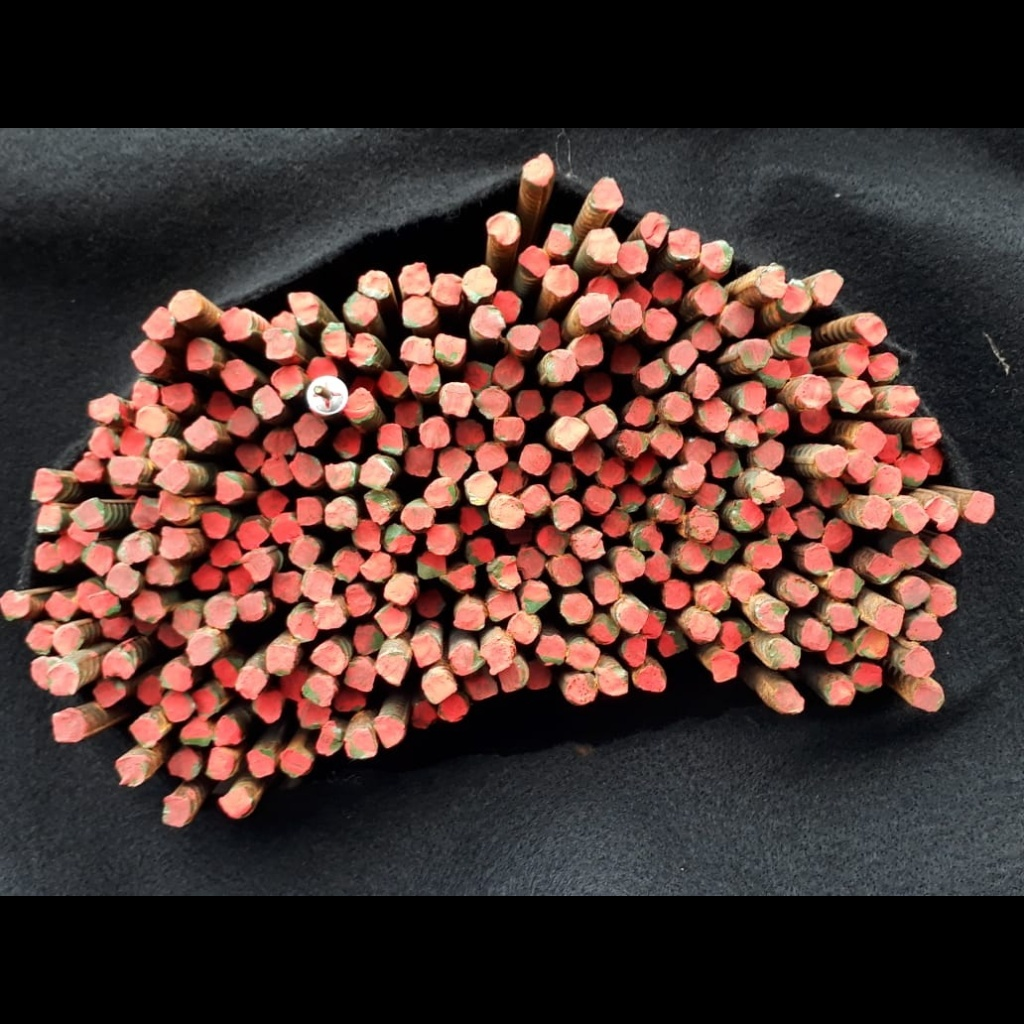dipstick: (462, 264, 497, 303), (374, 604, 409, 641), (746, 471, 786, 503), (486, 211, 522, 246), (376, 652, 411, 688), (481, 637, 515, 674), (439, 382, 472, 420), (470, 305, 505, 340), (218, 306, 253, 341), (490, 495, 525, 530), (153, 460, 189, 494), (925, 495, 959, 531), (521, 153, 554, 190), (158, 491, 196, 523), (344, 292, 378, 327), (141, 306, 175, 341), (184, 416, 218, 451), (115, 753, 150, 787), (373, 716, 407, 751), (554, 416, 588, 451), (895, 501, 929, 536), (838, 379, 873, 413), (722, 302, 755, 338), (343, 387, 376, 423), (295, 413, 328, 449), (365, 491, 401, 524), (402, 297, 439, 329), (52, 707, 84, 744), (588, 228, 619, 266), (287, 604, 318, 642), (814, 269, 845, 307), (693, 281, 727, 315), (433, 333, 467, 367), (168, 288, 202, 322), (301, 570, 335, 604), (290, 453, 323, 488), (929, 534, 962, 569), (895, 453, 930, 486), (796, 375, 831, 408), (853, 312, 888, 345), (492, 354, 524, 390), (272, 365, 304, 401), (593, 177, 624, 214), (689, 504, 719, 542), (475, 385, 508, 419), (312, 642, 346, 675), (767, 637, 801, 670), (828, 567, 862, 600), (895, 534, 928, 568), (852, 422, 885, 456), (887, 384, 920, 418), (778, 324, 812, 357), (131, 341, 166, 373), (360, 456, 392, 491), (489, 556, 521, 591), (738, 338, 773, 370), (730, 500, 765, 532), (861, 495, 893, 530), (756, 262, 787, 298), (252, 386, 285, 419), (324, 497, 357, 530), (731, 568, 764, 601), (904, 646, 937, 679), (651, 270, 683, 304), (644, 308, 676, 342), (570, 334, 604, 366), (543, 349, 577, 381), (205, 596, 237, 630), (221, 360, 255, 392), (344, 728, 378, 760), (422, 672, 456, 704), (559, 593, 593, 625), (573, 528, 607, 560), (756, 601, 790, 633), (838, 344, 870, 378), (618, 240, 649, 275), (611, 299, 642, 334), (449, 643, 484, 674), (563, 674, 598, 705), (696, 400, 731, 431), (400, 261, 430, 297), (260, 329, 296, 359), (782, 576, 818, 606), (868, 553, 904, 583), (640, 210, 669, 247), (578, 294, 611, 326), (669, 227, 701, 260), (701, 240, 734, 272), (287, 292, 319, 325), (30, 469, 63, 501), (549, 554, 582, 586), (630, 519, 663, 551), (857, 627, 889, 660), (781, 281, 813, 314), (128, 717, 162, 748), (161, 691, 195, 722), (410, 633, 441, 667), (401, 499, 435, 530), (586, 404, 617, 438), (801, 617, 832, 651), (814, 477, 849, 507), (928, 583, 957, 619), (168, 748, 200, 780), (271, 572, 303, 604), (289, 537, 321, 569), (651, 426, 683, 458), (432, 274, 463, 307), (132, 590, 163, 623), (53, 625, 84, 658), (31, 657, 62, 690), (48, 663, 79, 696), (436, 692, 469, 723), (404, 445, 435, 478), (419, 415, 450, 448), (438, 449, 471, 480), (898, 577, 929, 610), (964, 491, 995, 524), (869, 466, 902, 497), (910, 417, 941, 450), (102, 649, 136, 679), (235, 666, 265, 700), (678, 541, 712, 571), (697, 581, 731, 611), (823, 518, 853, 552), (748, 539, 782, 569), (768, 507, 798, 541), (814, 447, 848, 477), (544, 265, 579, 294), (669, 339, 698, 374), (348, 332, 377, 367), (301, 676, 336, 705), (107, 457, 143, 485), (410, 363, 441, 395), (72, 498, 104, 529), (200, 507, 231, 539), (384, 574, 416, 605), (520, 444, 552, 475), (567, 641, 599, 672), (597, 665, 629, 696), (758, 403, 790, 434), (401, 336, 434, 366), (136, 407, 169, 437), (27, 623, 57, 656), (159, 662, 192, 692), (241, 551, 274, 581), (466, 472, 496, 505), (572, 442, 602, 475), (546, 220, 575, 254), (108, 565, 137, 599), (131, 495, 160, 529), (219, 790, 253, 819), (206, 747, 235, 781), (297, 699, 331, 728), (382, 523, 416, 552), (475, 442, 509, 471), (500, 657, 528, 692), (463, 361, 494, 392), (333, 552, 364, 583), (344, 660, 375, 691), (614, 549, 645, 580), (721, 620, 752, 651), (847, 451, 878, 482), (753, 438, 784, 469), (520, 246, 550, 278), (89, 393, 121, 423), (514, 390, 546, 420), (640, 358, 670, 390), (492, 290, 521, 323), (359, 270, 392, 299), (161, 383, 194, 412), (215, 472, 244, 505), (345, 585, 374, 618), (795, 506, 824, 539), (516, 545, 544, 579), (553, 496, 580, 531), (907, 614, 942, 641), (161, 529, 192, 559), (187, 634, 217, 665), (211, 538, 242, 568), (362, 552, 393, 582), (353, 625, 384, 655), (426, 477, 457, 507), (625, 395, 655, 426), (537, 635, 567, 666), (83, 543, 112, 575), (145, 556, 177, 585), (161, 795, 190, 827), (253, 691, 282, 723), (264, 427, 296, 456), (619, 602, 648, 634), (185, 339, 213, 372), (93, 680, 126, 708), (173, 603, 201, 636), (672, 462, 705, 490), (463, 675, 498, 701), (120, 427, 150, 457), (228, 407, 258, 437), (487, 591, 517, 621), (611, 345, 641, 375), (663, 392, 693, 422), (265, 645, 294, 676), (262, 457, 293, 486), (508, 615, 539, 644), (584, 486, 615, 515), (689, 611, 720, 640), (709, 534, 740, 563), (692, 320, 720, 352), (507, 323, 539, 351), (118, 534, 150, 562), (193, 685, 221, 717), (214, 657, 242, 689), (353, 520, 381, 552), (876, 604, 904, 636), (149, 439, 182, 466), (180, 719, 213, 746), (279, 750, 312, 777), (377, 423, 404, 456), (236, 522, 269, 549), (651, 494, 684, 521), (739, 380, 766, 413), (317, 722, 342, 757), (88, 427, 117, 457), (1, 590, 30, 620), (235, 443, 264, 473), (427, 525, 456, 555), (538, 526, 568, 555), (871, 353, 900, 383), (333, 428, 361, 459), (258, 490, 289, 518), (523, 583, 551, 614), (712, 451, 743, 479), (728, 418, 759, 446), (804, 543, 832, 574), (271, 515, 303, 542), (552, 390, 584, 417), (635, 665, 667, 692), (824, 637, 856, 664), (827, 603, 859, 630), (322, 323, 347, 357), (46, 591, 75, 620), (246, 750, 275, 779), (853, 663, 882, 692), (237, 592, 265, 622), (392, 400, 422, 428), (618, 431, 648, 459), (631, 457, 661, 485), (315, 602, 346, 629), (325, 462, 356, 489), (777, 477, 804, 508), (600, 456, 626, 488), (773, 688, 805, 714), (696, 363, 719, 399), (452, 605, 485, 630), (684, 438, 717, 463), (585, 274, 619, 298), (456, 421, 484, 450), (585, 373, 613, 402), (589, 615, 618, 643), (761, 359, 789, 388), (379, 371, 409, 398), (621, 636, 648, 666), (711, 654, 741, 681), (914, 684, 944, 711), (35, 544, 62, 573), (214, 717, 241, 746), (192, 564, 221, 591), (417, 591, 446, 618), (465, 537, 494, 564), (663, 579, 690, 608), (132, 379, 158, 409), (308, 356, 338, 382), (417, 553, 447, 579), (523, 484, 549, 514), (696, 482, 727, 507), (207, 392, 235, 419), (498, 464, 525, 492), (603, 510, 631, 537), (660, 631, 688, 658), (297, 497, 323, 526), (459, 507, 488, 533), (801, 409, 831, 434), (494, 418, 525, 442), (618, 485, 646, 511), (74, 456, 103, 481), (525, 660, 550, 689), (594, 575, 619, 604), (90, 592, 120, 616), (335, 689, 366, 712), (551, 462, 574, 493), (538, 317, 560, 349), (827, 679, 854, 705), (228, 568, 253, 596), (412, 702, 437, 730), (138, 675, 162, 704), (880, 433, 903, 463), (448, 564, 475, 589), (647, 552, 670, 581), (101, 618, 131, 640), (920, 446, 942, 476), (36, 506, 61, 532), (66, 525, 98, 545), (159, 626, 186, 648), (643, 610, 664, 638), (57, 538, 80, 563), (77, 584, 100, 609), (787, 357, 813, 375)
